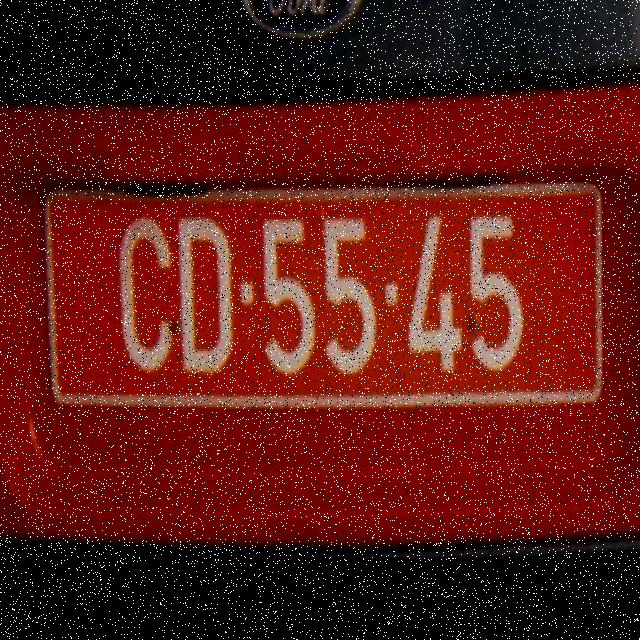licenseplate: (31, 148, 613, 434)
